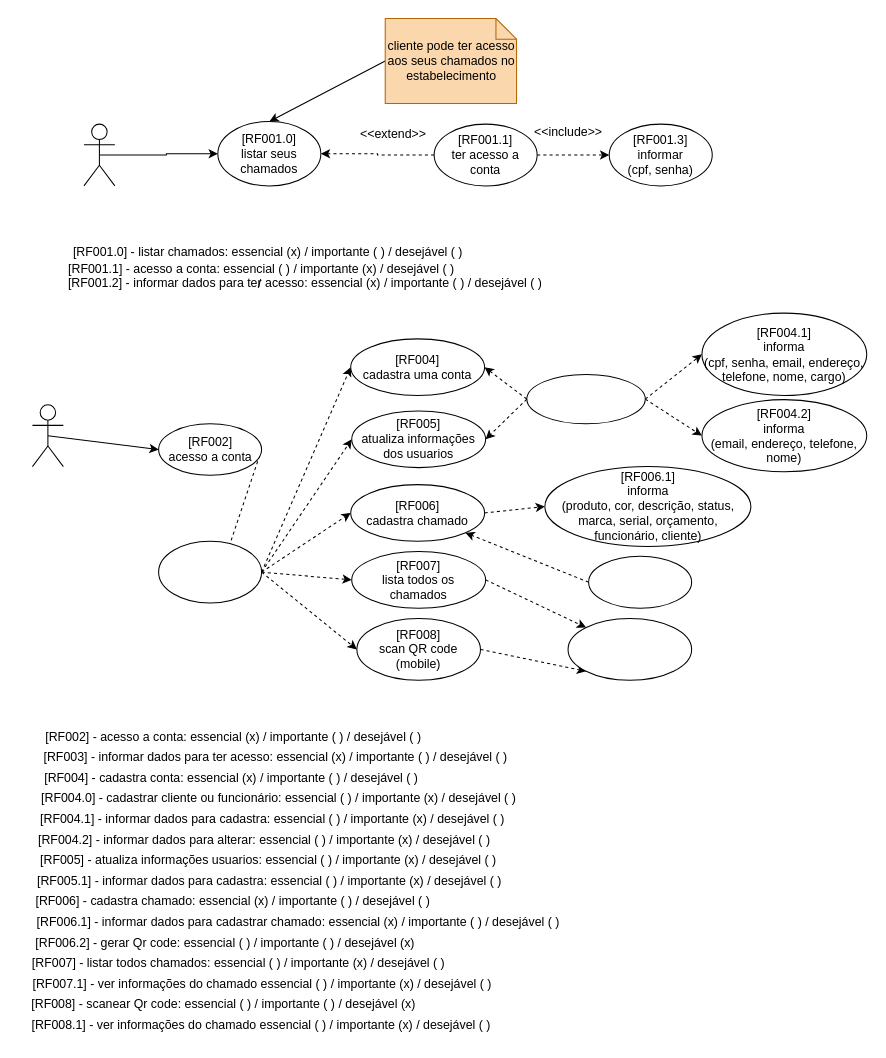
Some shapes in this 886 by 1058 pixel diagram are drawn without their labels. The shapes that lost their labels are listed below. From the top down, each one's centre as x and y in pixels, then its label:
At pixel 99 154: "cliente".
At pixel 585 398: "[RF004.0] cliente ou funcionário".
At pixel 47 435: "funcionário".
At pixel 210 571: "[RF003] informar (cpf, senha)".
At pixel 640 581: "[RF006.2] gera QR code".
At pixel 629 648: "[RF007.1] ver informações do chamado".
